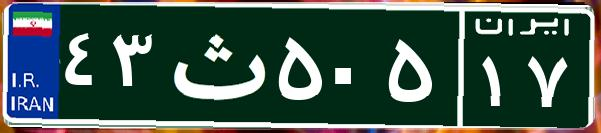0: (330, 28, 385, 110)
1: (475, 38, 525, 113)
3: (110, 28, 158, 105)
4: (57, 26, 110, 107)
5: (385, 28, 445, 110), (273, 28, 330, 110)
7: (525, 38, 570, 115)
ث: (158, 15, 273, 115)
